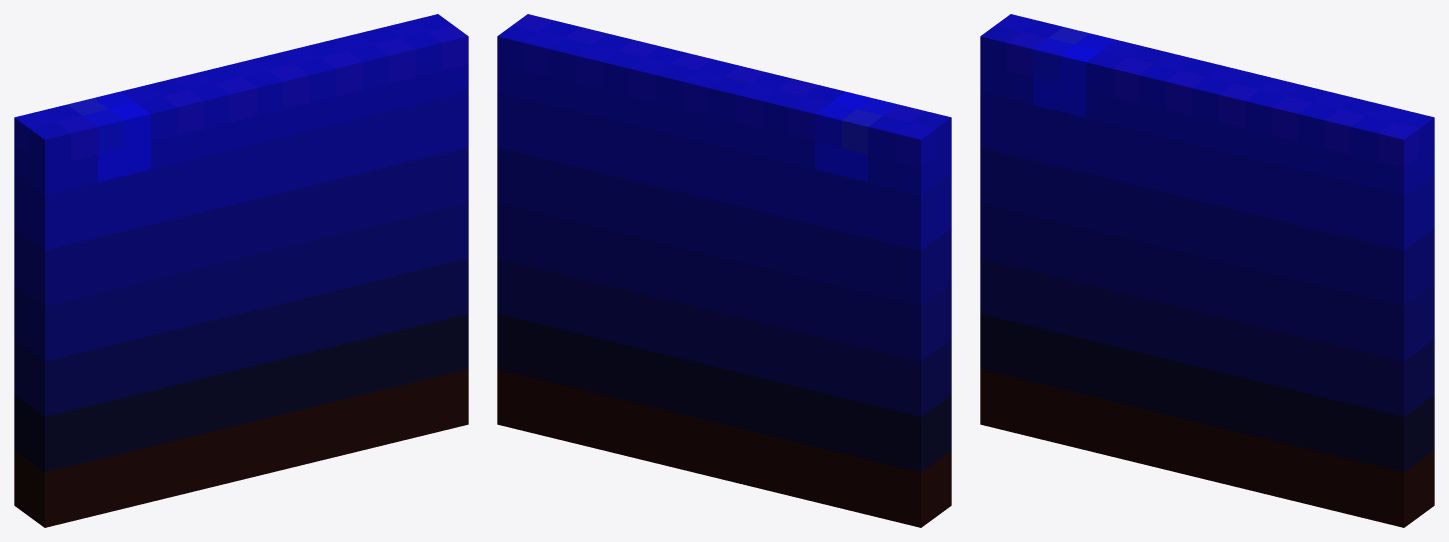
The model's file is sea_transparent_v.gltf.
3 renders of one model, left to right at view 1: azimuth 30°, elevation 25°; view 2: azimuth 150°, elevation 25°; view 3: azimuth 330°, elevation 25°, orthographic.
Visible parts, largest first — view 1: Content-Mesh; view 2: Content-Mesh; view 3: Content-Mesh.
Part boxes in pixels (left/top/right/bottom): Content-Mesh: left=14, top=14, right=468, bottom=527; Content-Mesh: left=497, top=14, right=951, bottom=527; Content-Mesh: left=980, top=14, right=1434, bottom=527.
Size of the model in its own units: 16 by 14 by 2.
1 material, 1 textured.
